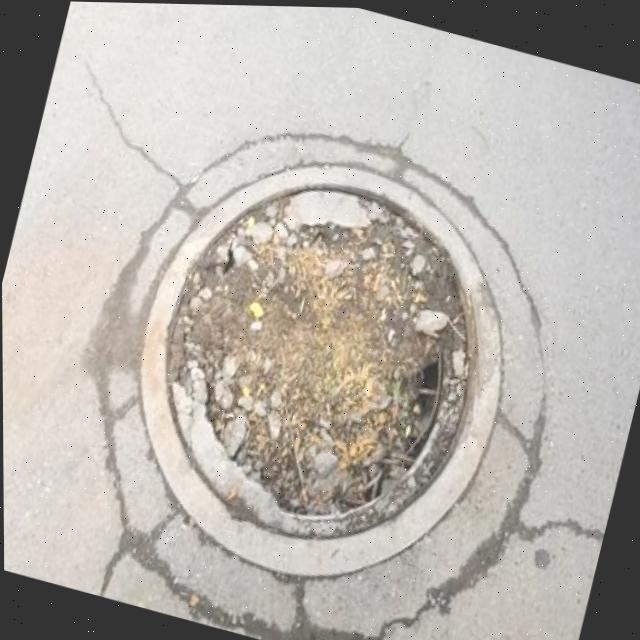manhole: (86, 109, 551, 626)
